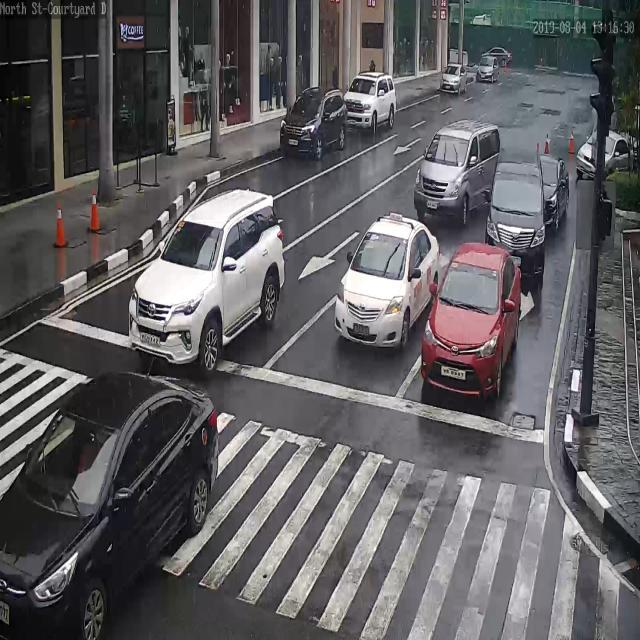car: (0, 372, 217, 640), (129, 188, 283, 373), (421, 241, 521, 403), (335, 213, 441, 352), (279, 87, 349, 157), (343, 74, 397, 132), (576, 131, 634, 180), (538, 151, 569, 227), (440, 64, 467, 95), (475, 57, 501, 83), (482, 47, 510, 67)
van: (413, 118, 501, 222), (485, 157, 546, 289)
